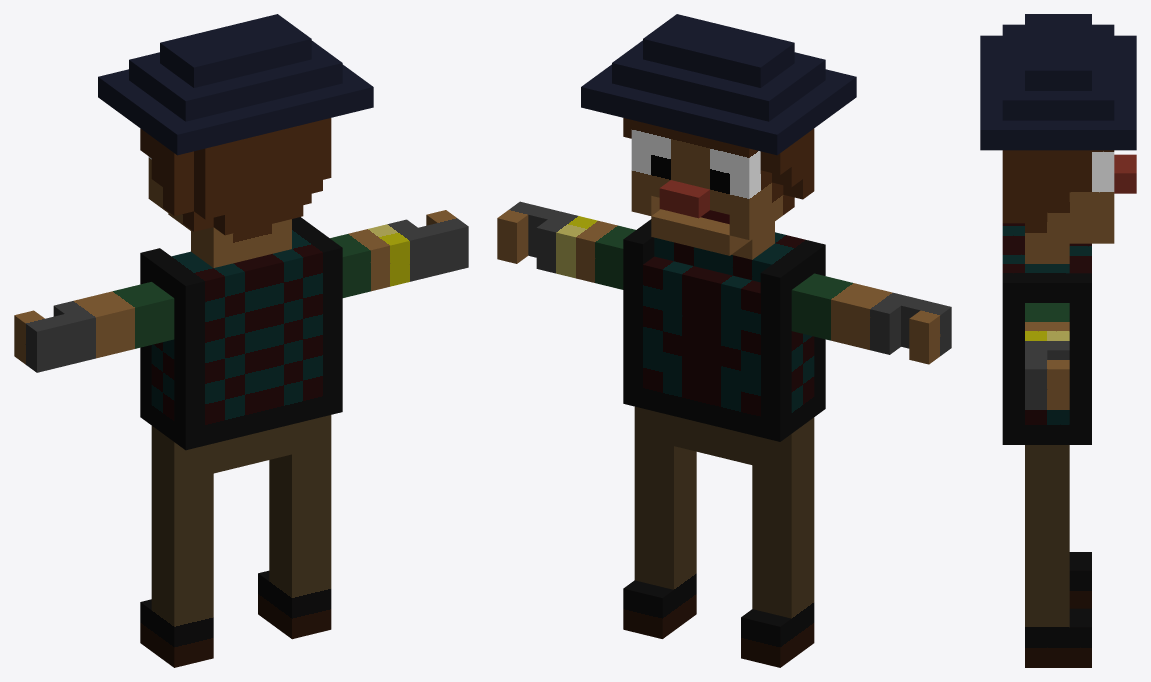
Rendered from kek.fbx.
3 renders of one model, left to right at view 1: azimuth 30°, elevation 25°; view 2: azimuth 150°, elevation 25°; view 3: azimuth 270°, elevation 25°, orthographic.
Visible parts, largest first — view 1: kek.Merged; view 2: kek.Merged; view 3: kek.Merged.
Part boxes in pixels (x1,y1,x2,y2): kek.Merged: (14,14,468,667); kek.Merged: (497,14,951,667); kek.Merged: (980,14,1136,667).
Size of the model in its own units: 4400 by 5800 by 1400.
